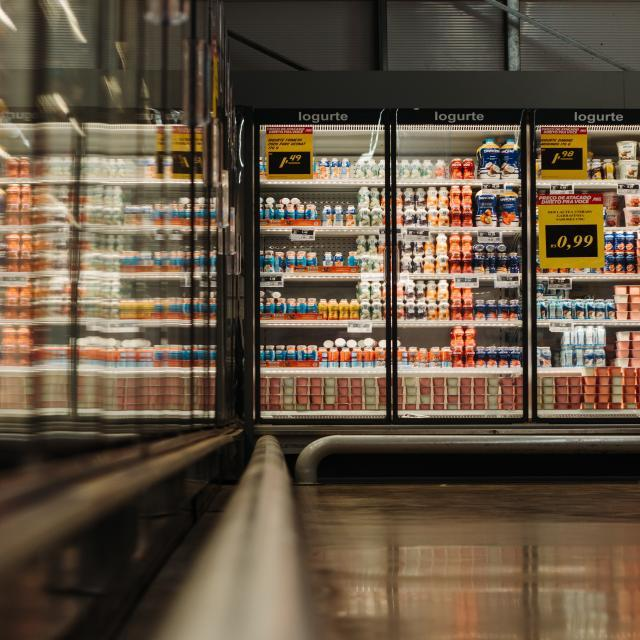Imprecise: (603, 190, 626, 227), (322, 337, 402, 347), (472, 243, 507, 253), (259, 197, 300, 204), (574, 294, 598, 300), (542, 294, 563, 300), (270, 290, 282, 298), (260, 290, 266, 298)
